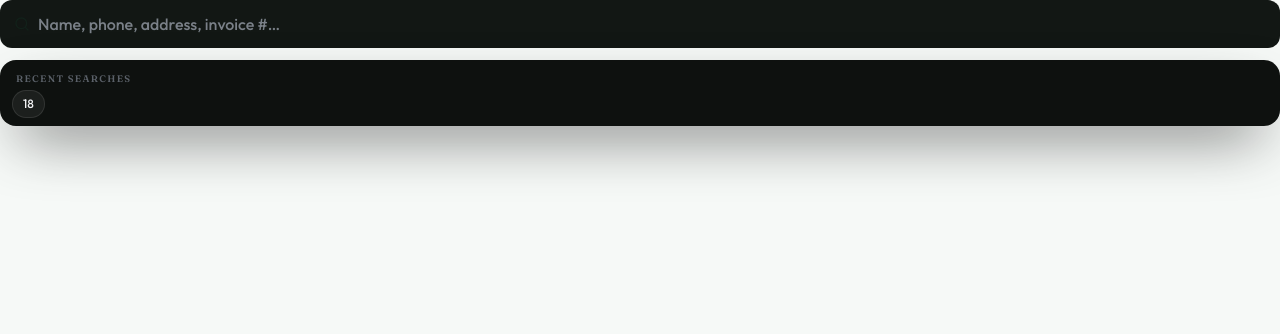
Scenario: UniversalSearch (embedded / mobile) › discards a stale slower response for an earlier query
The image size is (1280, 334).
In the search field named "Search records": (652, 24) [38,12,1266,36], type "ol"
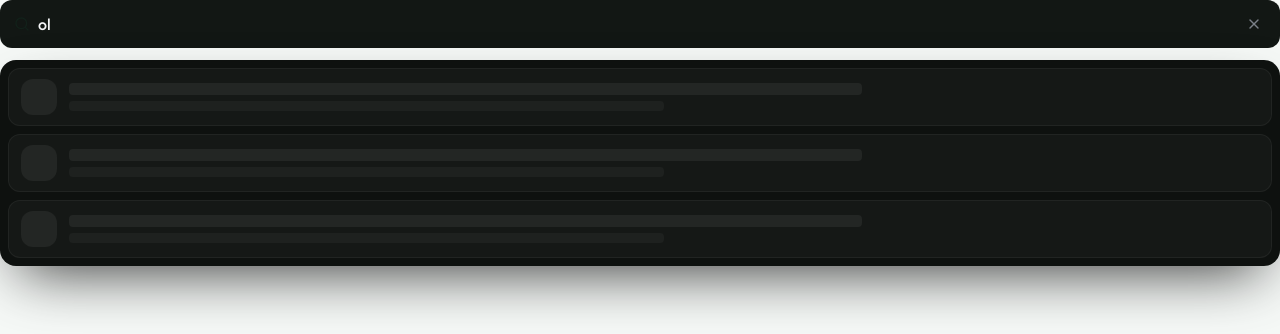
Replace the text in the search field named "Search records" with "new": (636, 24) [38,12,1234,36]
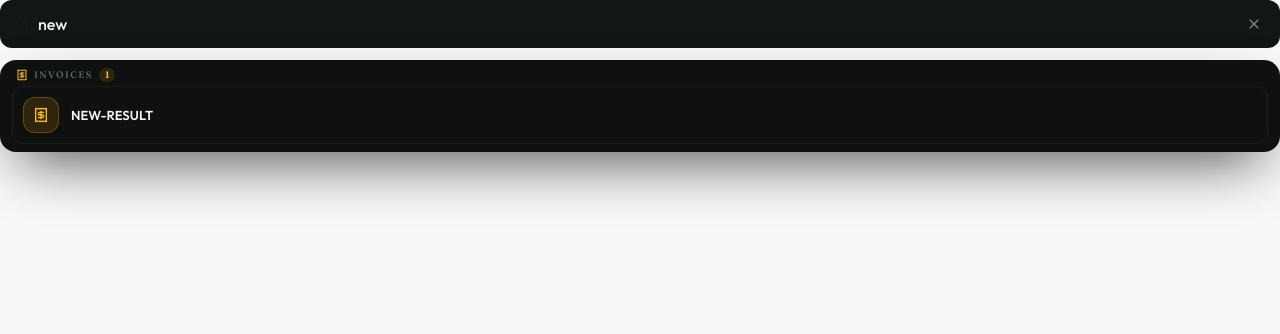
Check: the text "-RESULT" is shown, box [101,106,153,122]
